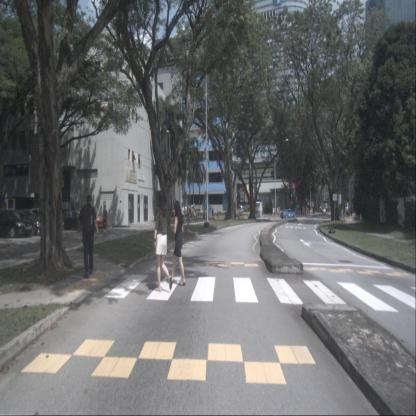human-pedestrian-adult: (153, 191, 173, 292), (78, 195, 100, 278), (168, 200, 186, 286), (103, 205, 108, 233), (187, 203, 191, 225), (181, 203, 185, 224), (345, 204, 349, 218), (350, 203, 354, 217), (272, 206, 275, 217), (278, 206, 281, 216), (276, 206, 279, 216), (348, 205, 350, 217)
vehicle-car: (0, 207, 32, 239), (7, 207, 42, 235), (58, 209, 84, 232), (280, 209, 297, 218)
vehicle-truck: (181, 204, 197, 219)
